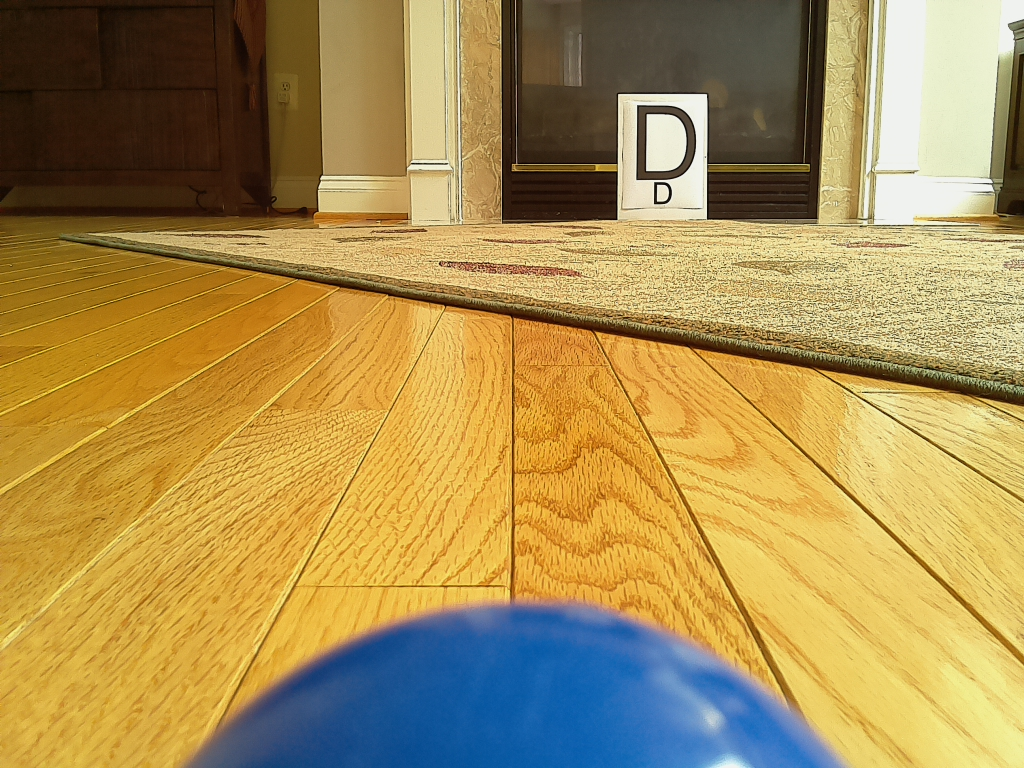letter: (636, 105, 696, 180)
